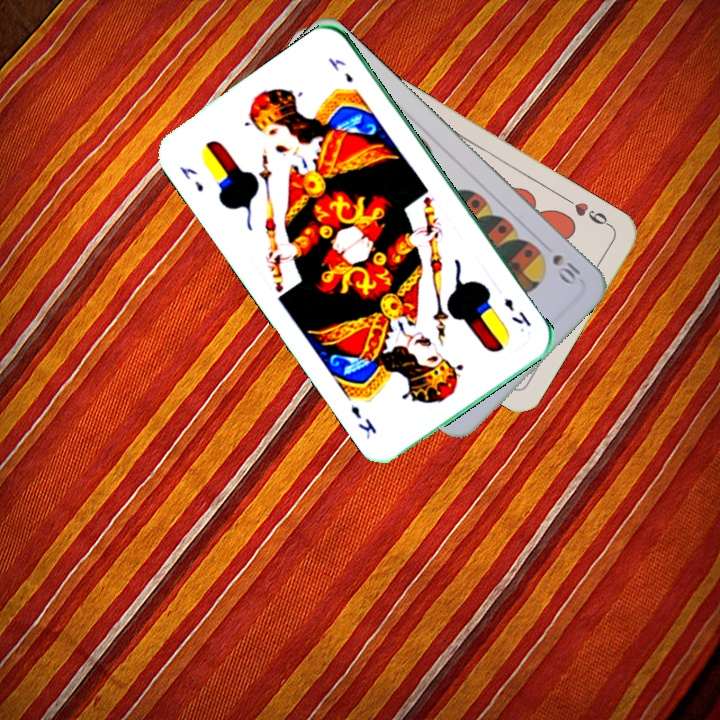EK: (500, 294, 534, 329), (176, 162, 206, 195)
H9: (562, 194, 615, 231)
S10: (548, 250, 583, 287)
